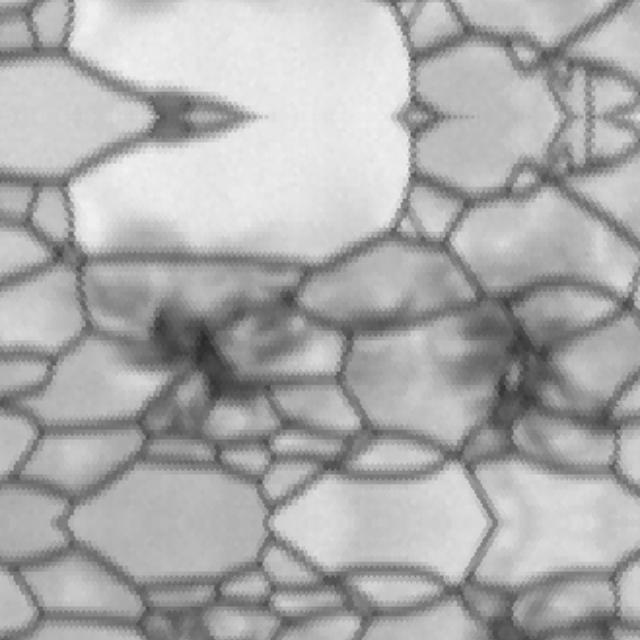good_void: (409, 238, 636, 478), (81, 267, 307, 467), (443, 584, 628, 640)
